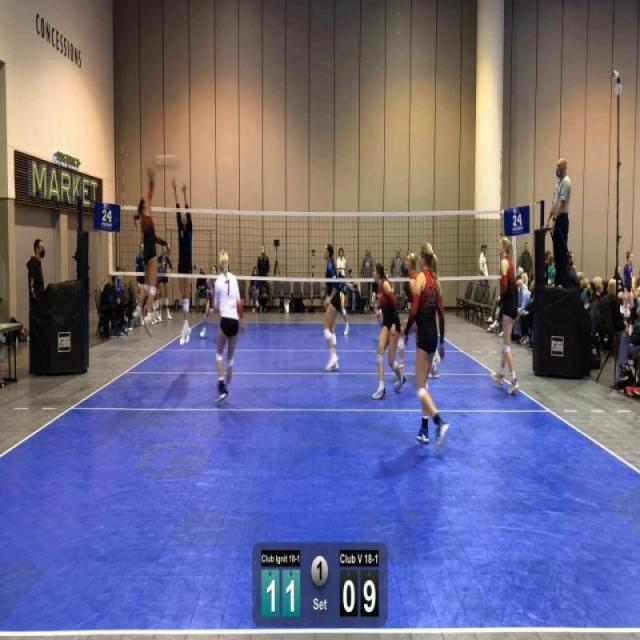volleyball: (153, 151, 180, 174)
